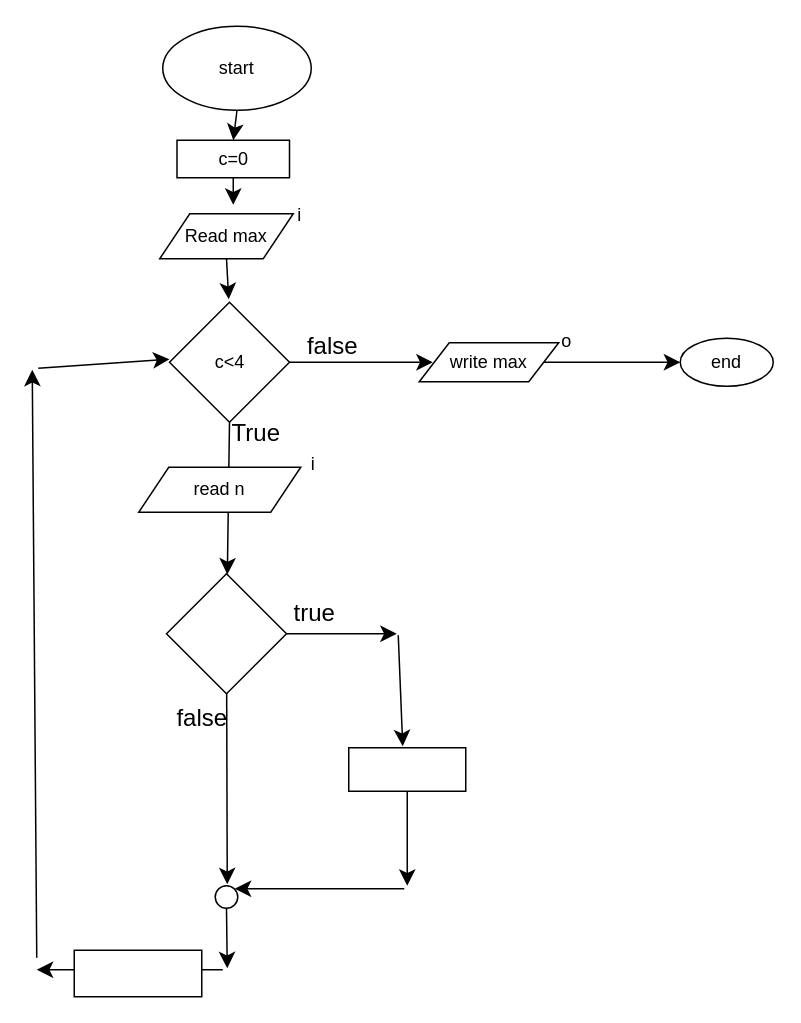
This 801x1023 diagram has some shape labels left out. The centre of each missing label's shape, as x and y in pixels:
c=c+1: [137,973]
max= n: [406,768]
n>max: [225,633]
